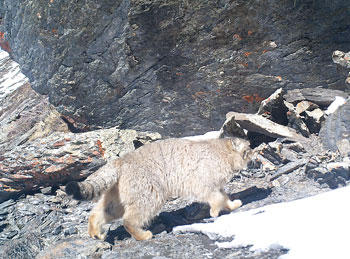cat: (63, 134, 269, 246)
